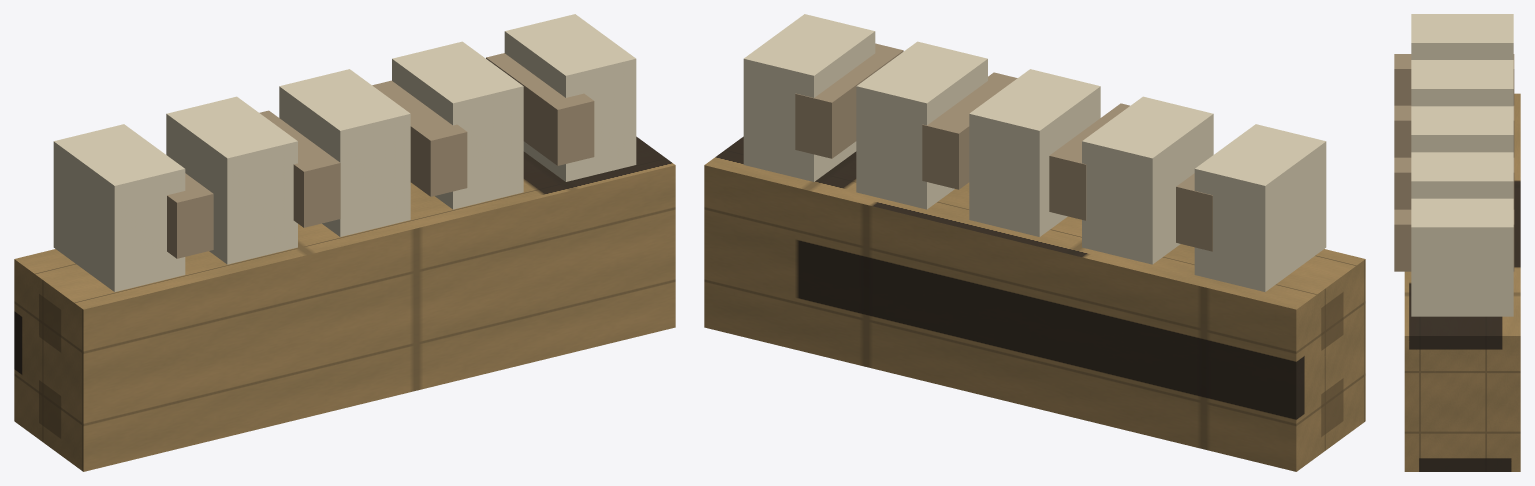
Rendered from city-module-merlon-lod0.glb.
3 views of the same model, side by side, from view 1: azimuth 30°, elevation 25°; view 2: azimuth 150°, elevation 25°; view 3: azimuth 270°, elevation 25° (orthographic). The views are drawn at different scales.
Visible parts, largest first — view 1: module_merlon_base_wall, module_merlon_tooth_1, module_merlon_tooth_2, module_merlon_tooth_3, module_merlon_tooth_4, module_merlon_tooth_5, module_merlon_shadow_gap_4, module_merlon_shadow_gap_3, module_merlon_shadow_gap_2, module_merlon_shadow_gap_1; view 2: module_merlon_base_wall, module_merlon_tooth_1, module_merlon_tooth_2, module_merlon_tooth_3, module_merlon_tooth_4, module_merlon_tooth_5, module_merlon_shadow_gap_4, module_merlon_shadow_gap_3, module_merlon_shadow_gap_2, module_merlon_shadow_gap_1; view 3: module_merlon_base_wall, module_merlon_tooth_5, module_merlon_tooth_2, module_merlon_tooth_3, module_merlon_tooth_4, module_merlon_tooth_1, module_merlon_shadow_gap_4, module_merlon_shadow_gap_2, module_merlon_shadow_gap_3, module_merlon_shadow_gap_1.
Part boxes in pixels (x1,y1,x2,y2): module_merlon_base_wall: (14, 136, 675, 471); module_merlon_tooth_1: (53, 124, 185, 291); module_merlon_tooth_2: (166, 96, 297, 264); module_merlon_tooth_3: (279, 69, 410, 236); module_merlon_tooth_4: (392, 41, 523, 209); module_merlon_tooth_5: (504, 14, 636, 181); module_merlon_shadow_gap_4: (486, 53, 594, 165); module_merlon_shadow_gap_3: (372, 80, 467, 196); module_merlon_shadow_gap_2: (259, 110, 340, 227); module_merlon_shadow_gap_1: (167, 173, 213, 258); module_merlon_base_wall: (704, 136, 1365, 471); module_merlon_tooth_1: (1194, 124, 1326, 291); module_merlon_tooth_2: (1082, 96, 1213, 264); module_merlon_tooth_3: (969, 69, 1100, 236); module_merlon_tooth_4: (856, 41, 987, 209); module_merlon_tooth_5: (743, 14, 875, 181); module_merlon_shadow_gap_4: (795, 43, 903, 158); module_merlon_shadow_gap_3: (922, 72, 1017, 189); module_merlon_shadow_gap_2: (1049, 103, 1129, 220); module_merlon_shadow_gap_1: (1176, 173, 1212, 251); module_merlon_base_wall: (1404, 93, 1520, 471); module_merlon_tooth_5: (1411, 198, 1513, 316); module_merlon_tooth_2: (1411, 60, 1513, 106); module_merlon_tooth_3: (1411, 106, 1513, 152); module_merlon_tooth_4: (1411, 152, 1513, 198); module_merlon_tooth_1: (1411, 14, 1513, 59); module_merlon_shadow_gap_4: (1394, 209, 1514, 271); module_merlon_shadow_gap_2: (1394, 105, 1514, 157); module_merlon_shadow_gap_3: (1394, 157, 1514, 209); module_merlon_shadow_gap_1: (1394, 54, 1514, 105).
Bounding box in the file's own units: 0.42 × 0.186 × 0.0925.
3 materials, 1 textured.
